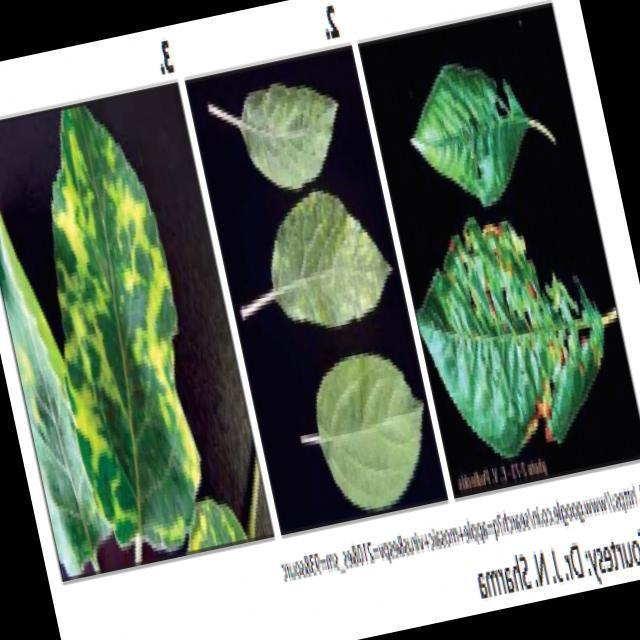Mosaic Virus: (6, 85, 224, 560)
